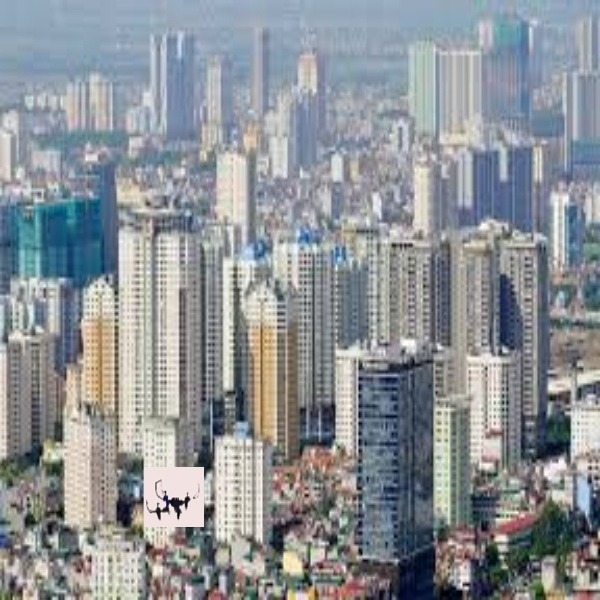drone: (142, 468, 201, 529)
